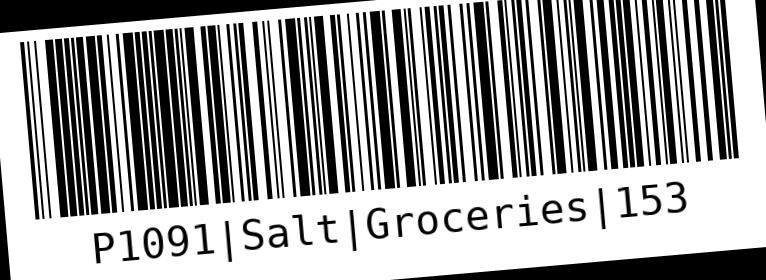milk: (21, 0, 738, 218)
